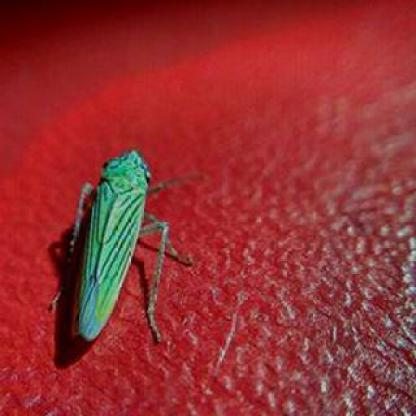green-leafhopper: (71, 150, 172, 342)
